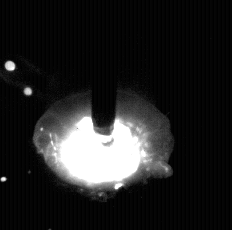arame: (91, 0, 118, 135)
poca: (33, 0, 174, 230)
